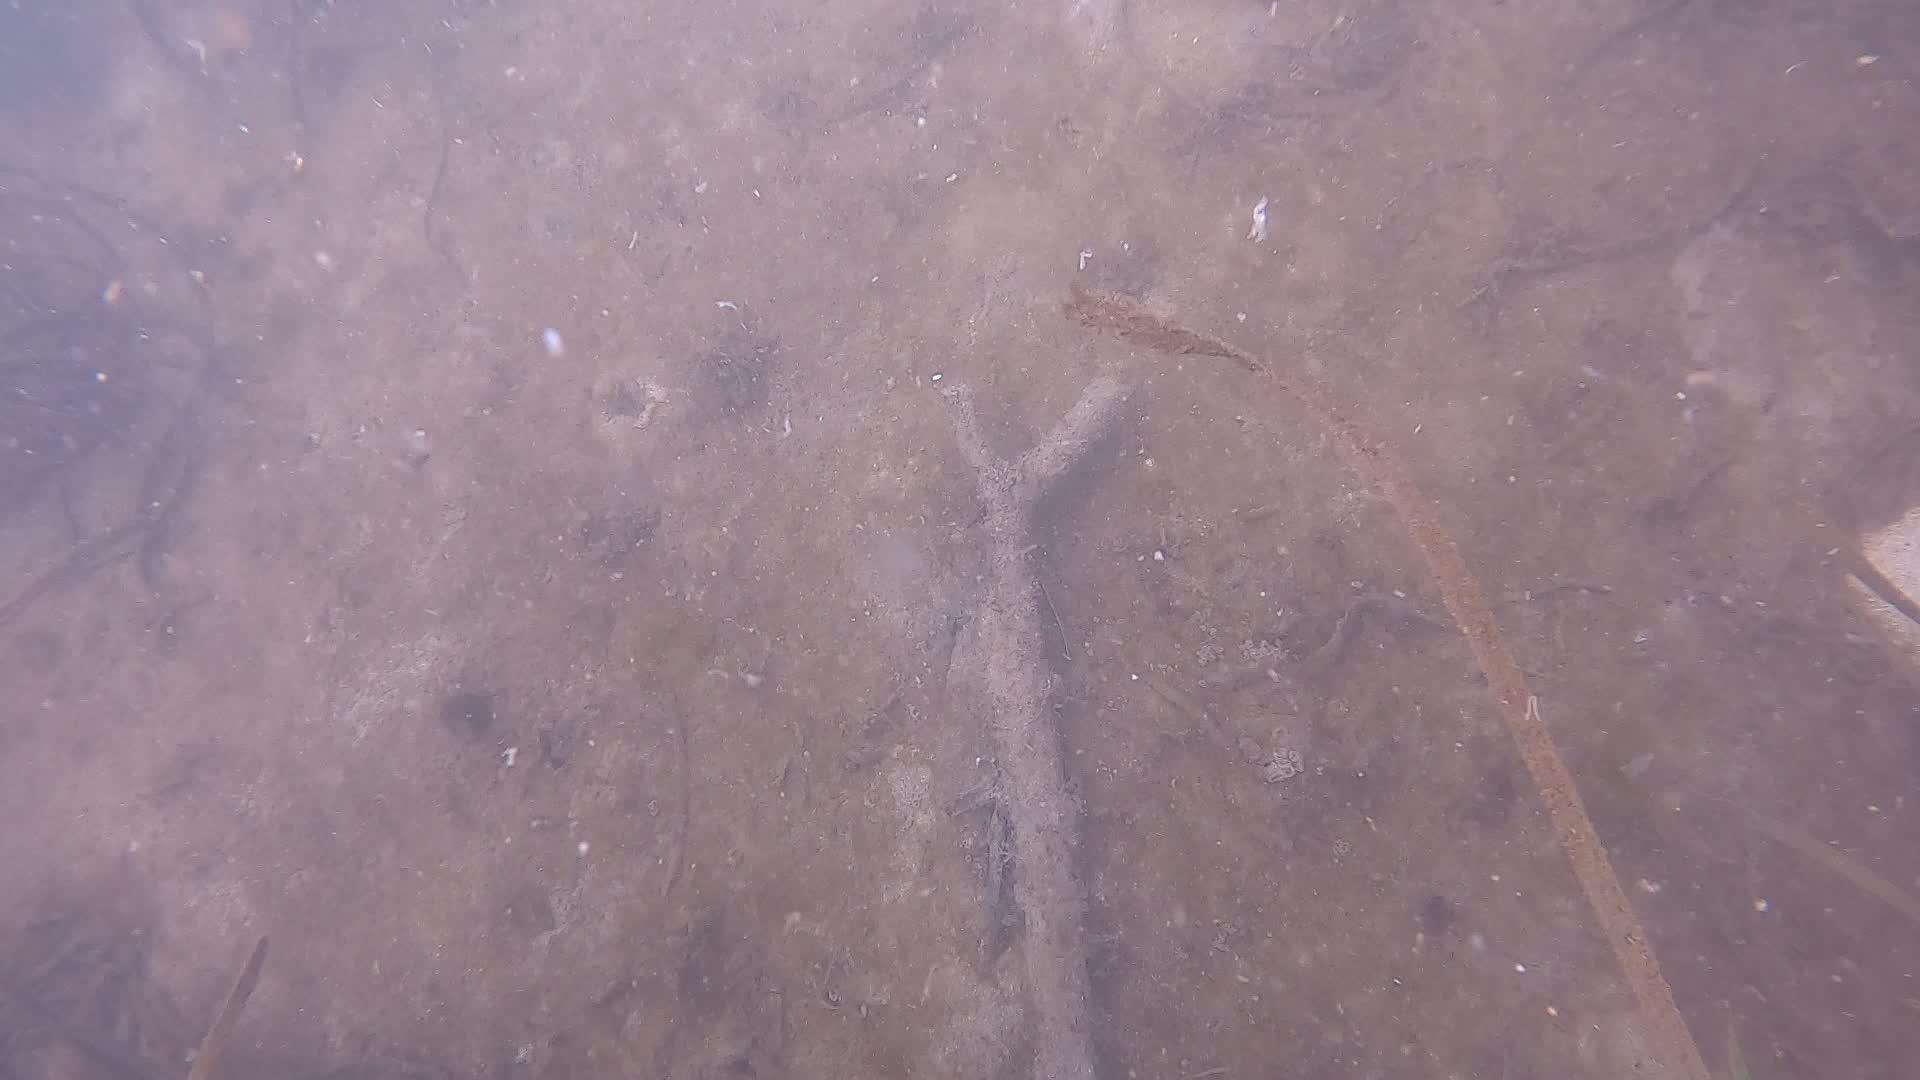wood: (940, 367, 1131, 1080)
